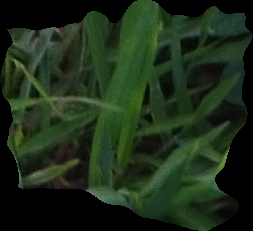grass: (1, 1, 252, 230)
